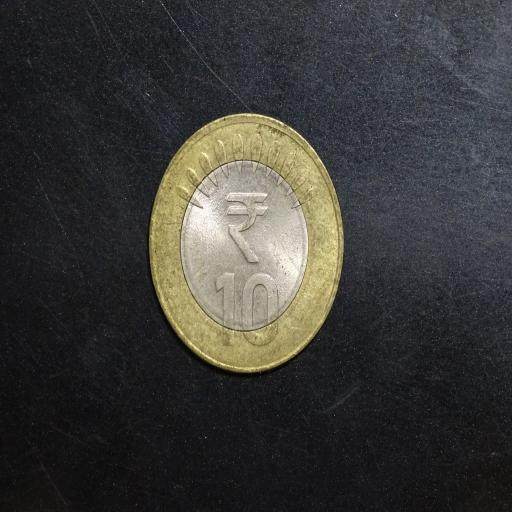rupee10: (147, 114, 345, 371)
